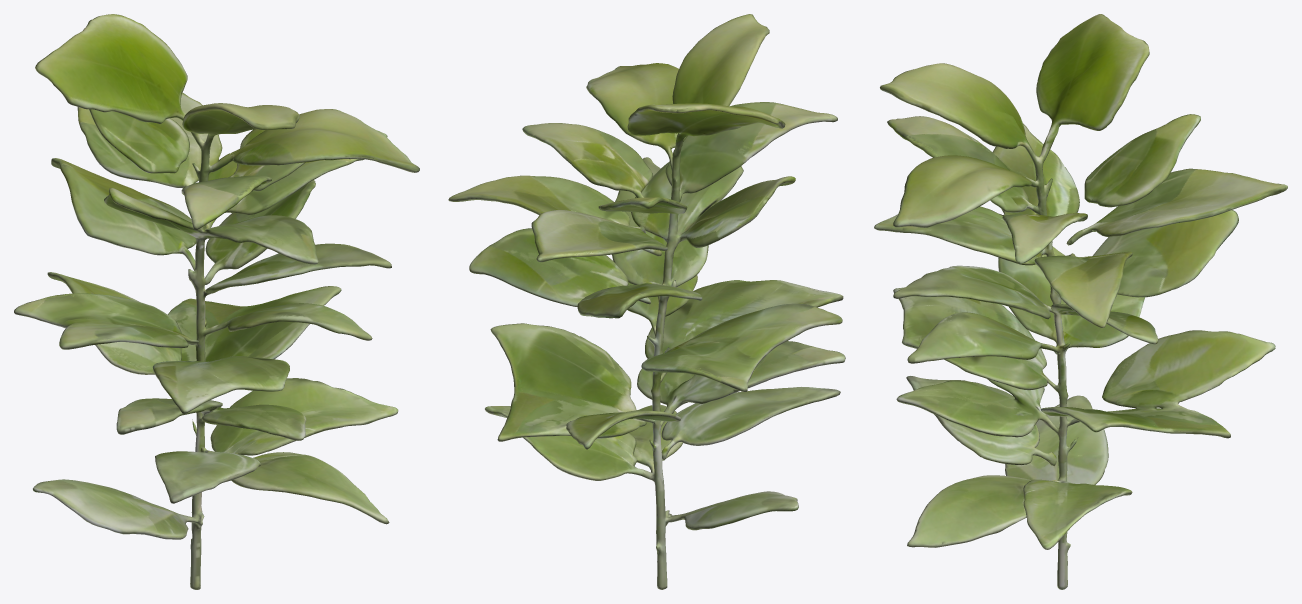
The model's file is shrub0076_dup.gltf.
3 renders of one model, left to right at view 1: azimuth 30°, elevation 25°; view 2: azimuth 150°, elevation 25°; view 3: azimuth 270°, elevation 25°, orthographic. The views are drawn at different scales.
Parts seen in each view (by area): view 1: Mesh_0.044; view 2: Mesh_0.044; view 3: Mesh_0.044.
Part boxes in pixels (x1,y1,x2,y2): Mesh_0.044: (14, 14, 419, 589); Mesh_0.044: (448, 14, 845, 589); Mesh_0.044: (874, 14, 1287, 589).
Bounding box in the file's own units: 1.39 × 2.01 × 1.45.
1 material, 1 textured.
